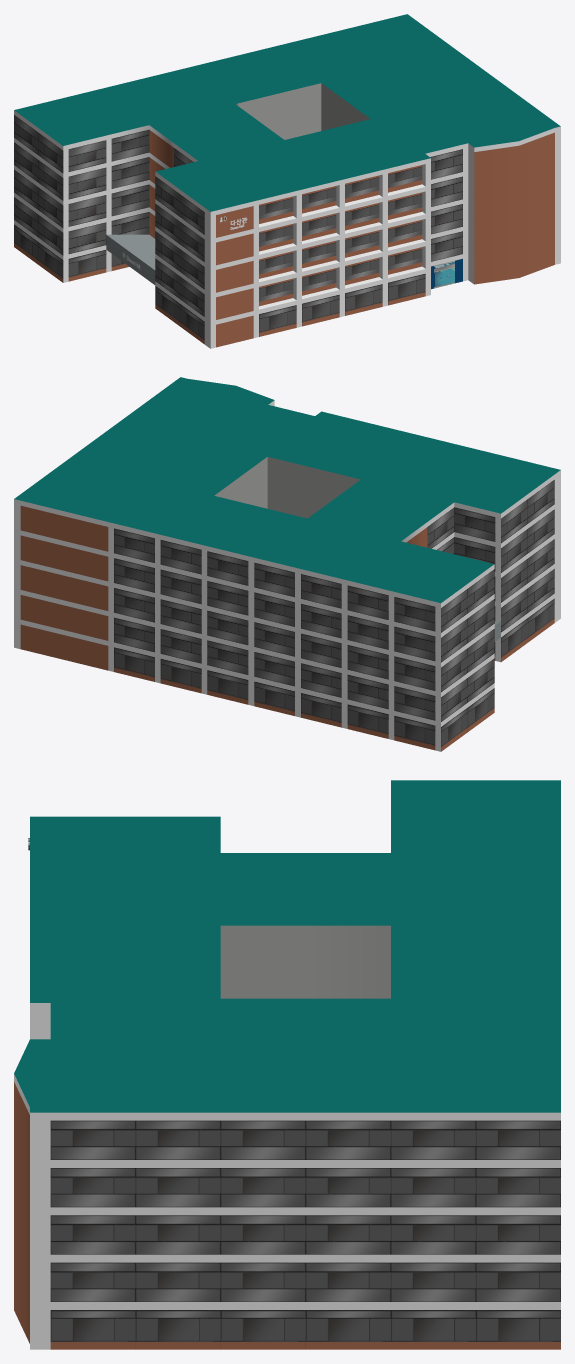
The model's file is building_dasan.fbx.
3 renders of one model, top to bottom at view 1: azimuth 30°, elevation 25°; view 2: azimuth 150°, elevation 25°; view 3: azimuth 270°, elevation 25°, orthographic. The views are drawn at different scales.
Visible parts, largest first — view 1: building_dasan; view 2: building_dasan; view 3: building_dasan.
Boxes of the visible parts, bbox=[...] form: building_dasan: bbox=[14, 14, 560, 348]; building_dasan: bbox=[14, 377, 560, 751]; building_dasan: bbox=[14, 780, 560, 1349].
Bounding box in the file's own units: 4.04 × 1.34 × 2.81.
Materials: 1 (1 with a texture image).
